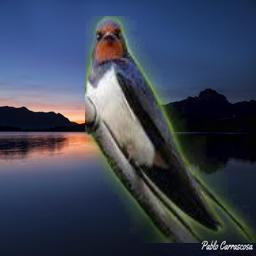Swallow: (85, 16, 256, 243)
